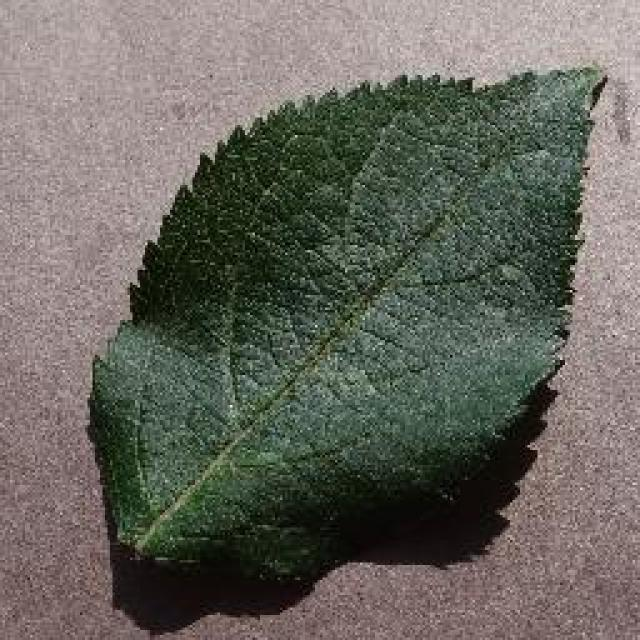apple healthy: (85, 60, 610, 585)
